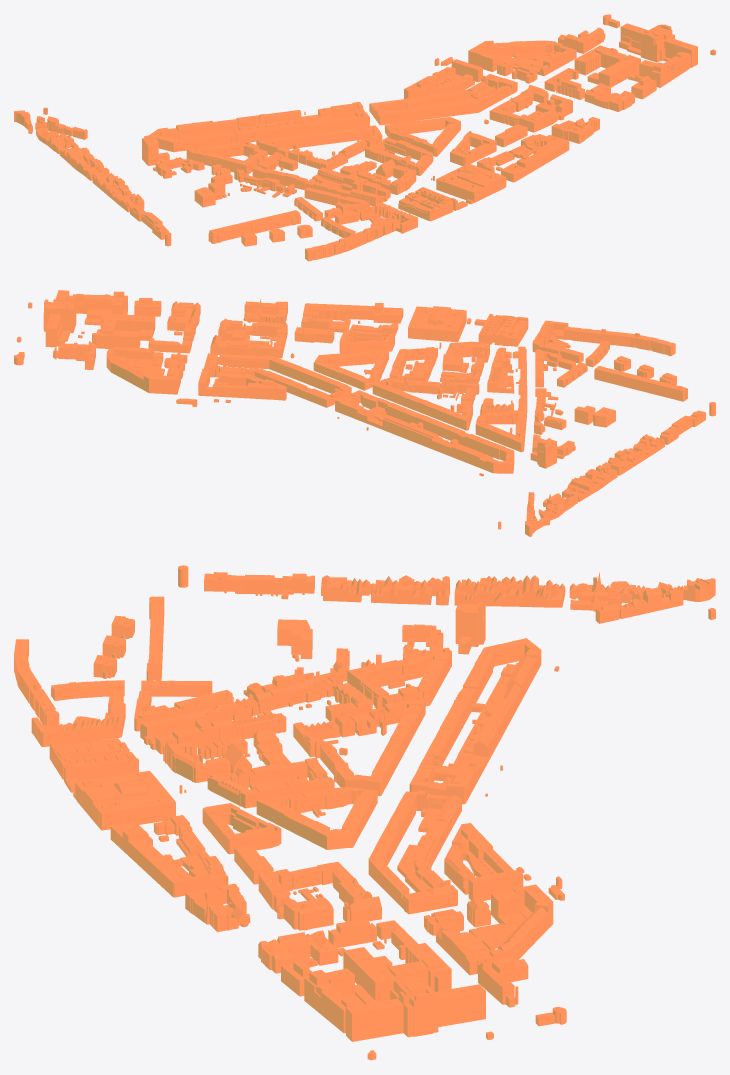
The picture shows the model from 3 angles, top to bottom: view 1: azimuth 30°, elevation 25°; view 2: azimuth 150°, elevation 25°; view 3: azimuth 270°, elevation 25°; orthographic projection. The views are drawn at different scales.
Parts seen in each view (by area): view 1: mesh; view 2: mesh; view 3: mesh.
Boxes of the visible parts, bbox=[...] form: mesh: bbox=[14, 14, 715, 261]; mesh: bbox=[14, 290, 715, 536]; mesh: bbox=[14, 565, 715, 1060].
Bounding box in the file's own units: 1045 × 41.16 × 650.
